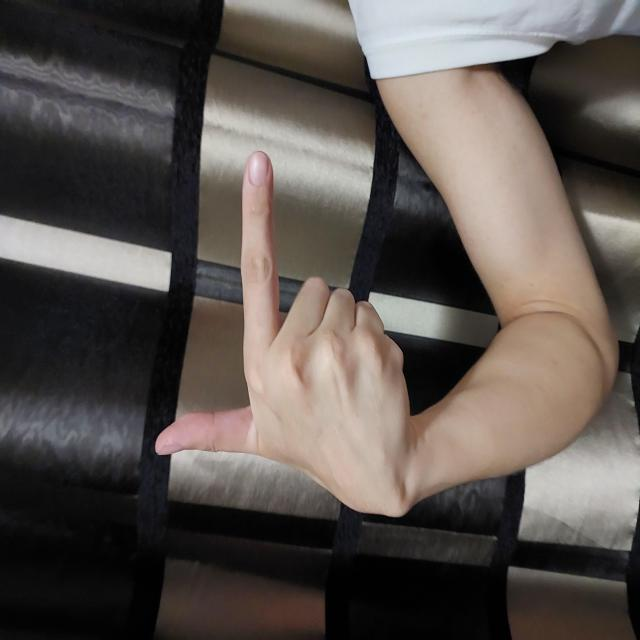G: (121, 154, 492, 417)
